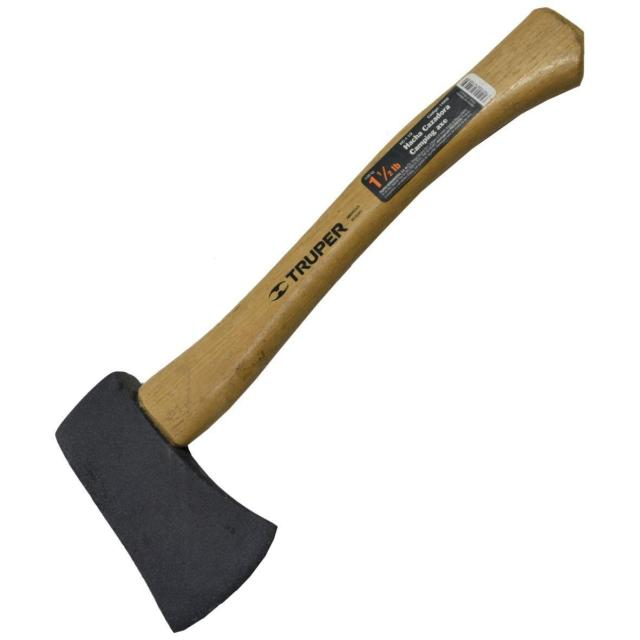Kapak: (51, 20, 615, 626)
